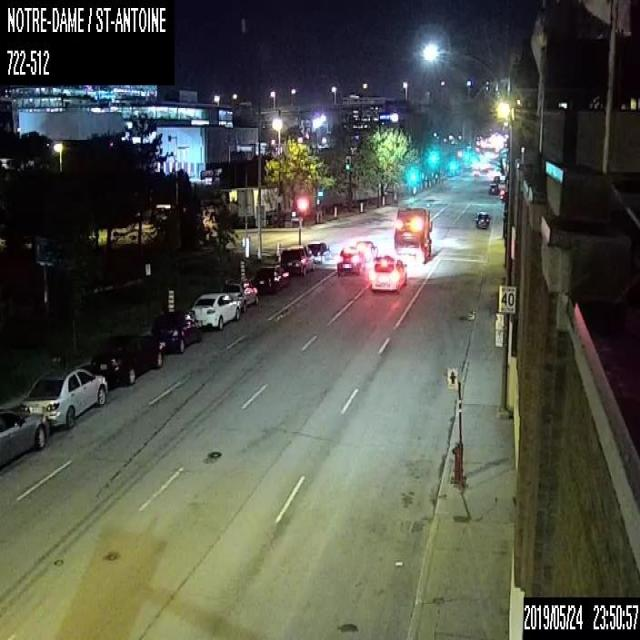construction: (167, 290, 174, 310), (238, 260, 245, 275), (275, 240, 280, 259)
vehicle: (20, 367, 107, 425), (90, 333, 162, 384), (0, 404, 49, 468), (151, 310, 201, 351), (394, 206, 431, 258), (190, 291, 240, 328), (371, 255, 406, 291), (254, 262, 290, 294), (221, 276, 258, 307), (280, 243, 313, 275), (336, 246, 364, 276), (305, 239, 331, 265), (354, 238, 378, 261), (475, 210, 489, 227), (486, 180, 498, 195)
